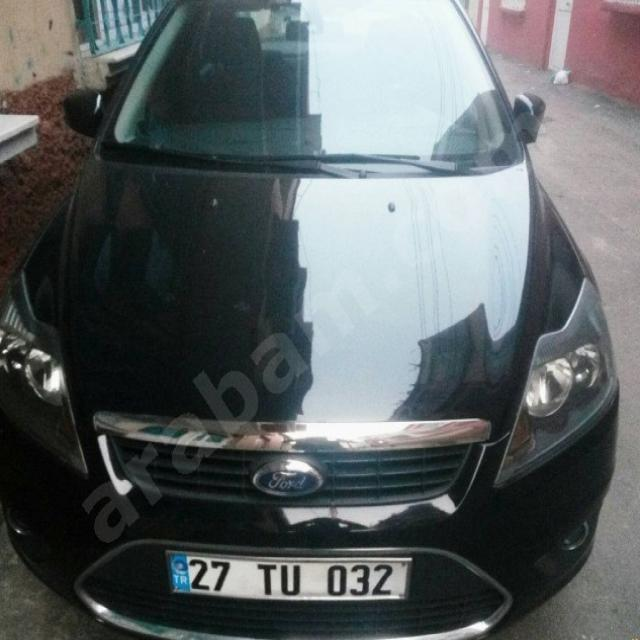license_plate: (169, 550, 410, 602)
